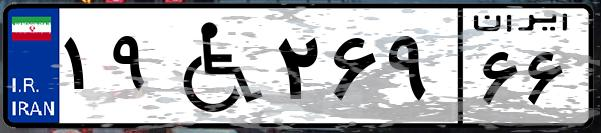1: (57, 26, 110, 100)
2: (270, 28, 330, 110)
6: (330, 28, 385, 110), (475, 38, 525, 113), (525, 38, 570, 115)
9: (385, 28, 445, 110), (110, 28, 158, 98)
ژ (معلولین و جانبازان): (158, 12, 270, 120)
